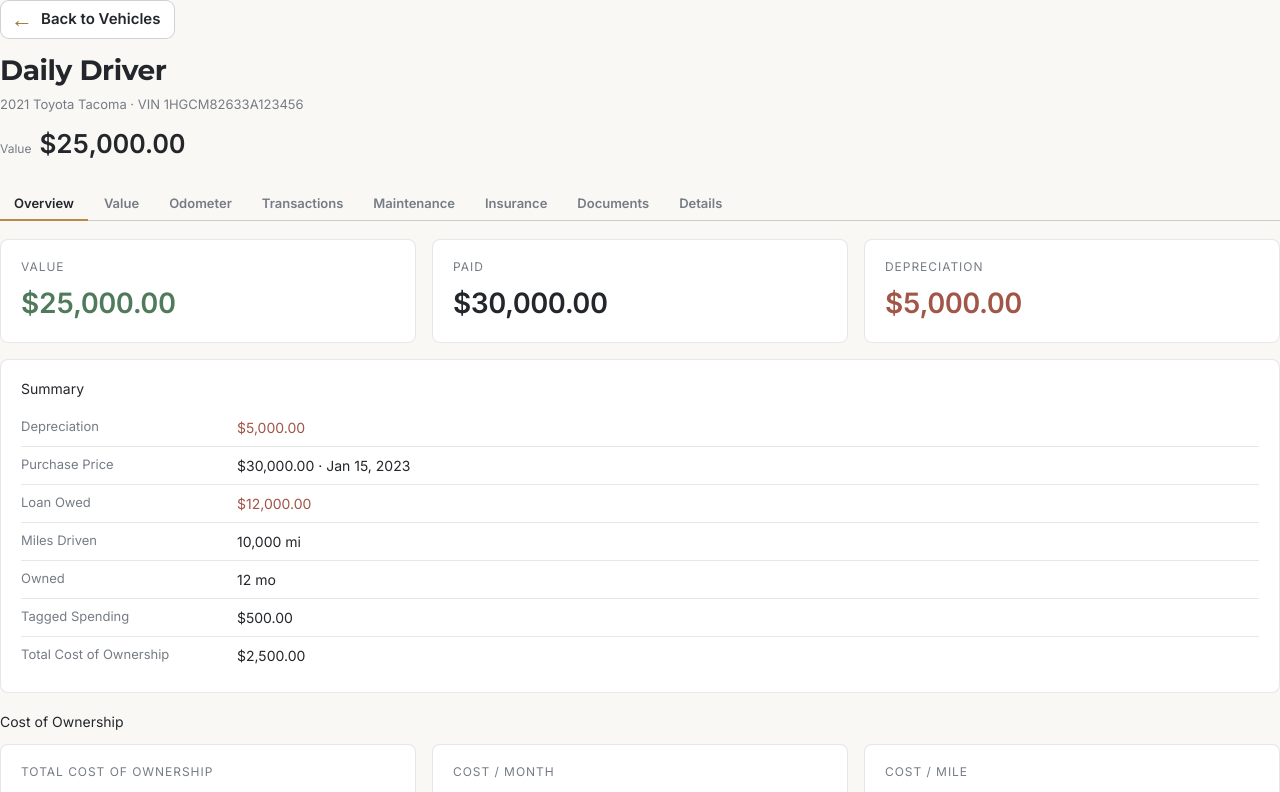
VehicleDetail — transactions tab › renders the posted transaction, opens the add editor and the row editor
The width and height of the screenshot is (1280, 792).
Check: the heading "Daily Driver" is shown, box left=0, top=52, right=166, bottom=86
What coordinates should you click on to do the following:
click the button "Transactions"
I would click on:
 (303, 204)
Its box is left=248, top=187, right=357, bottom=221.
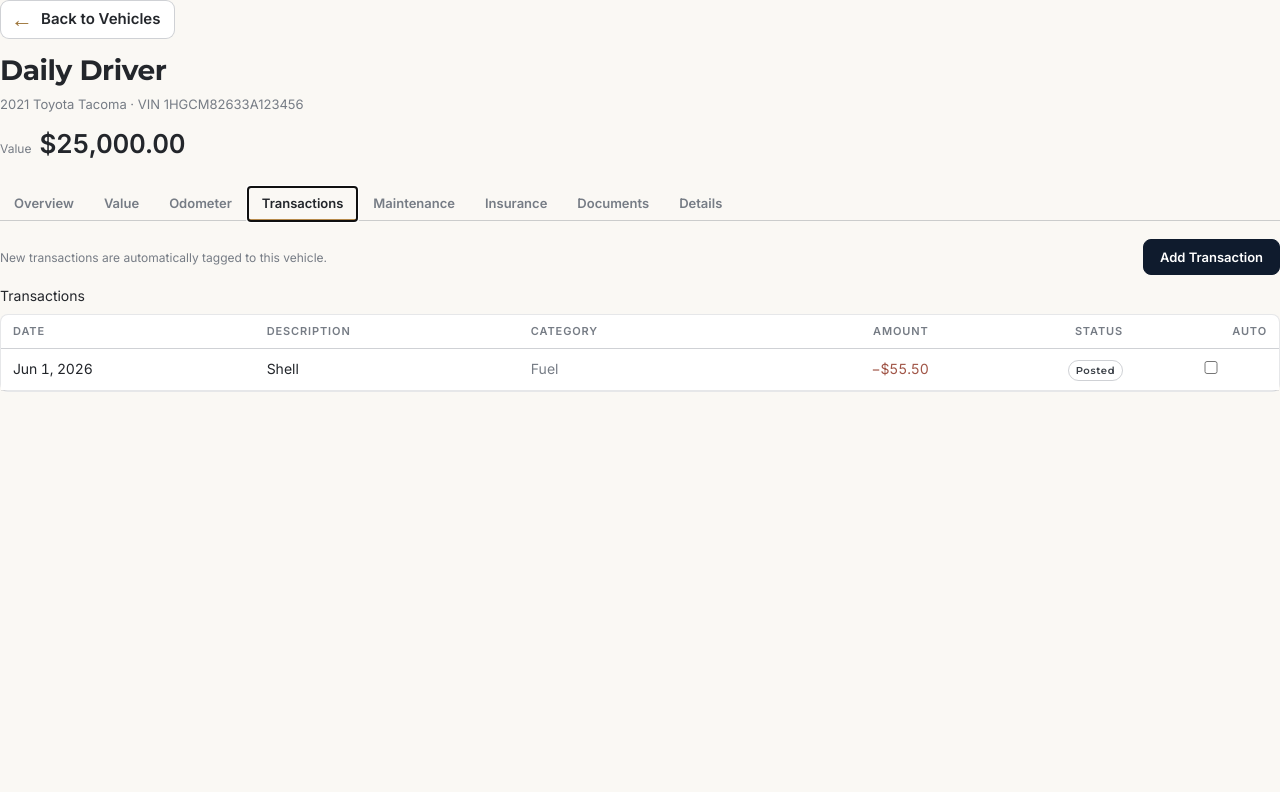
Check: the button "Add Transaction" is enabled
Check: the text "Shell" is shown, box left=255, top=348, right=519, bottom=390
Open the add editor (a Modal), then close it.
What coordinates should you click on to do the following:
click the button "Add Transaction"
I would click on:
 (1211, 257)
Its box is left=1143, top=239, right=1279, bottom=275.
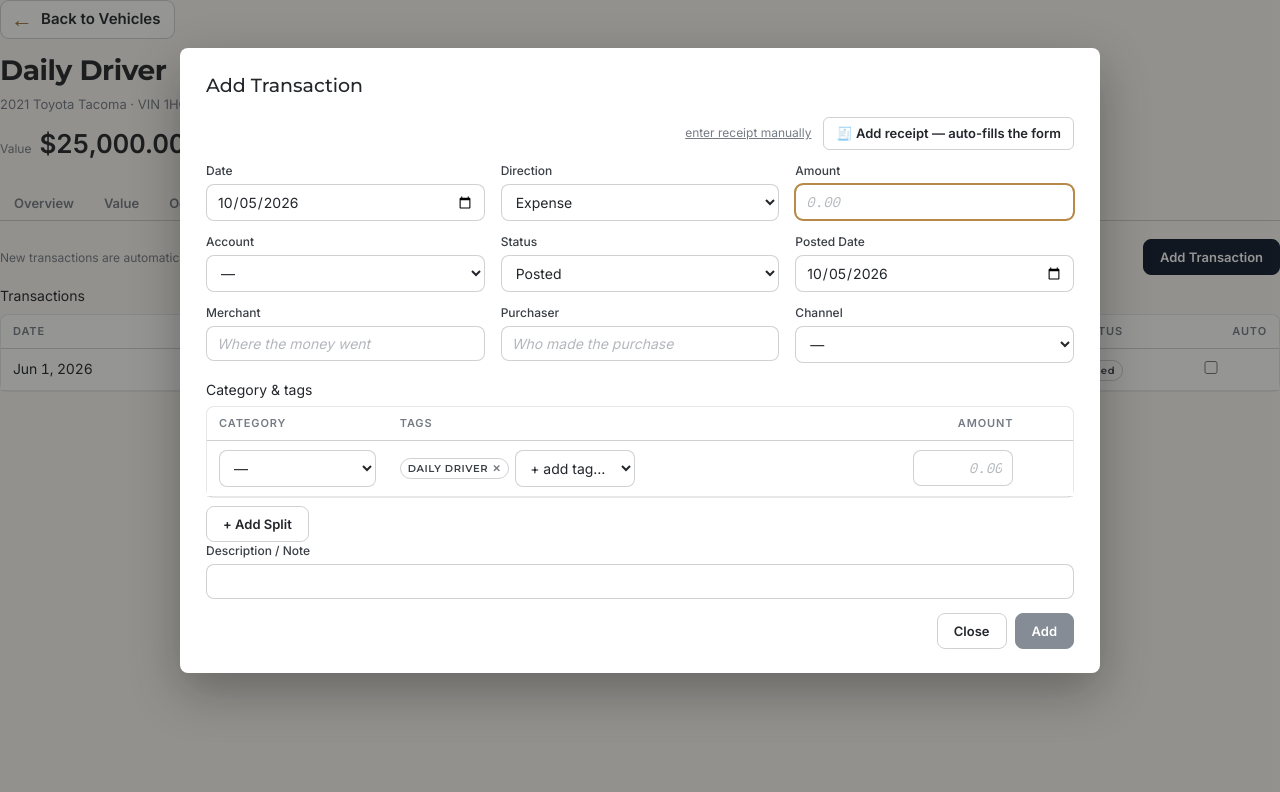
What coordinates should you click on to do the following:
click the button "Close"
I would click on:
 (972, 630)
Its box is left=937, top=612, right=1006, bottom=648.
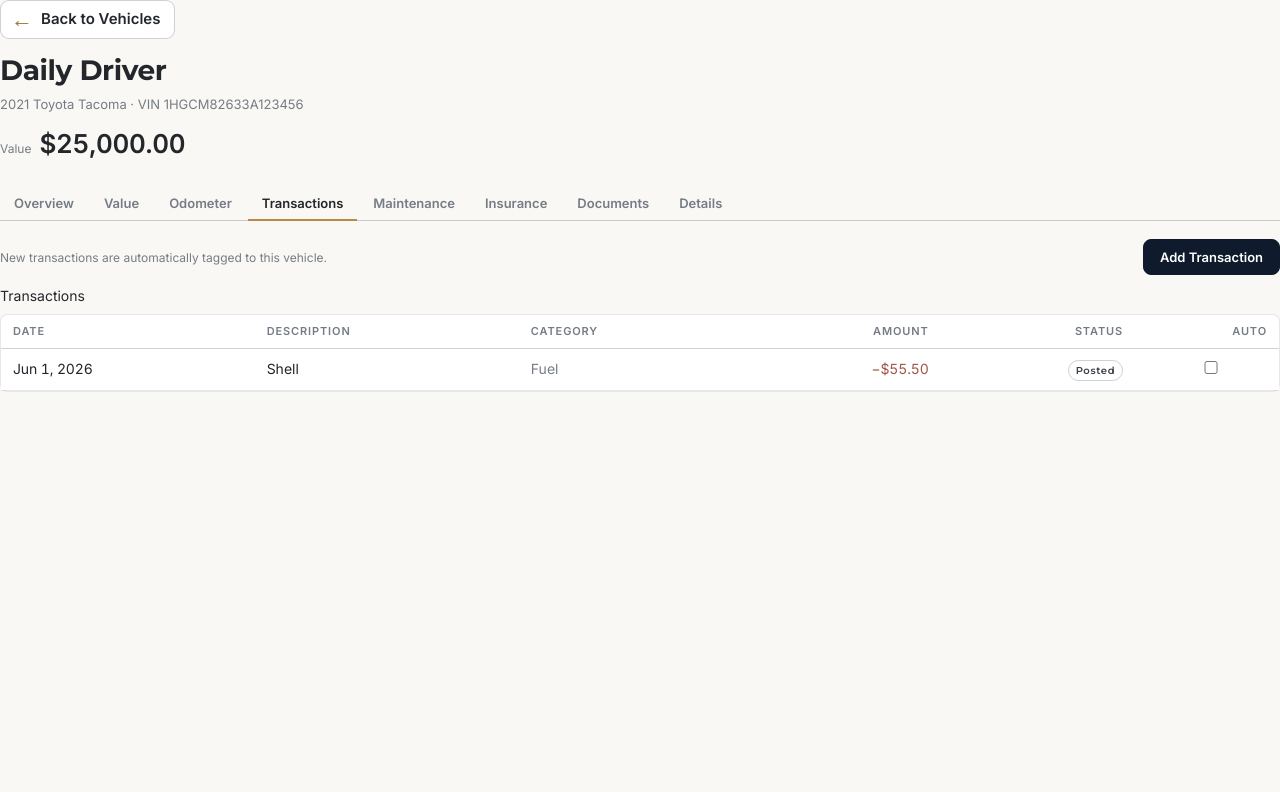
Click the txn row to open the edit editor.
What coordinates should you click on to do the following:
click the text "Shell"
I would click on:
 (387, 369)
Its box is left=255, top=348, right=519, bottom=390.
(page scrolled)
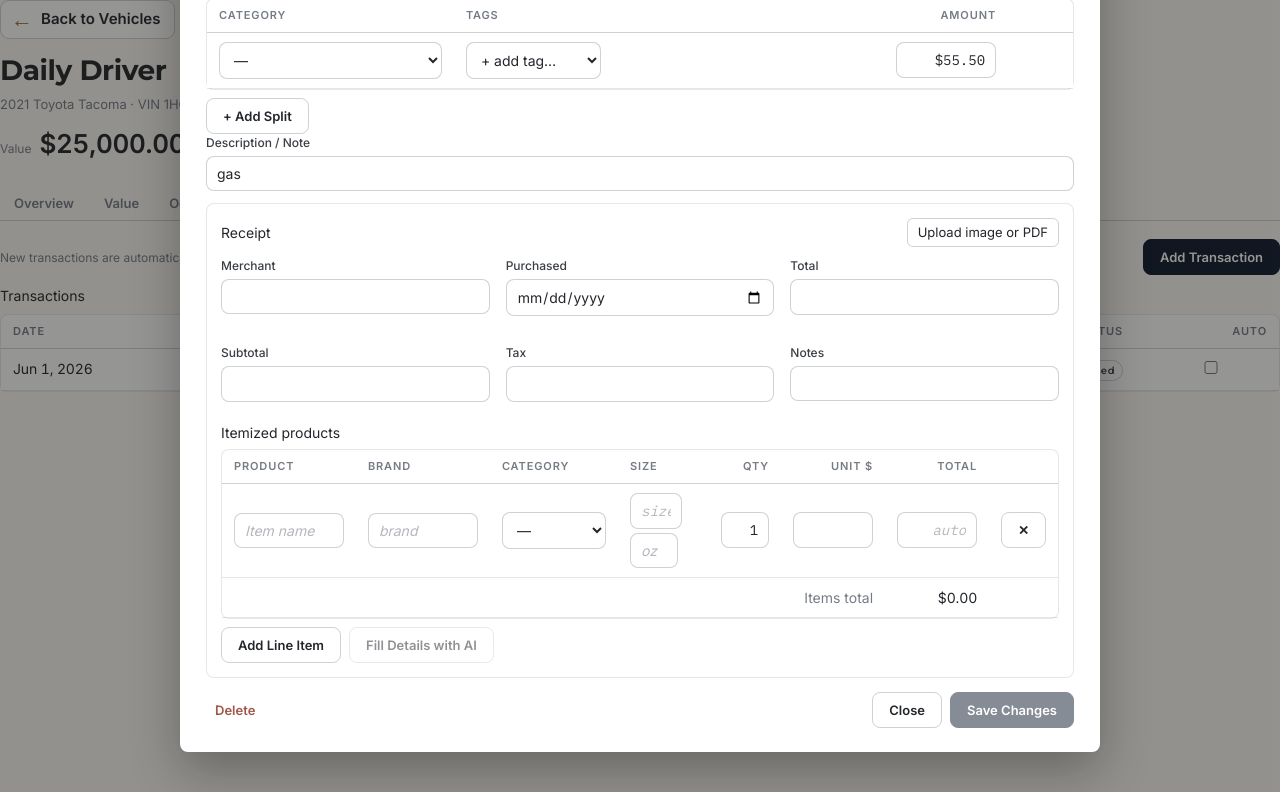
Check: the button "Close" is shown, box left=872, top=692, right=942, bottom=728
